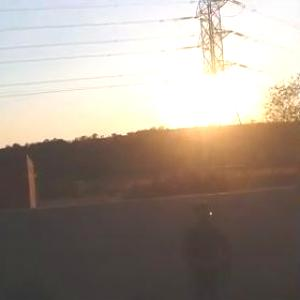follow: (181, 191, 245, 299)
